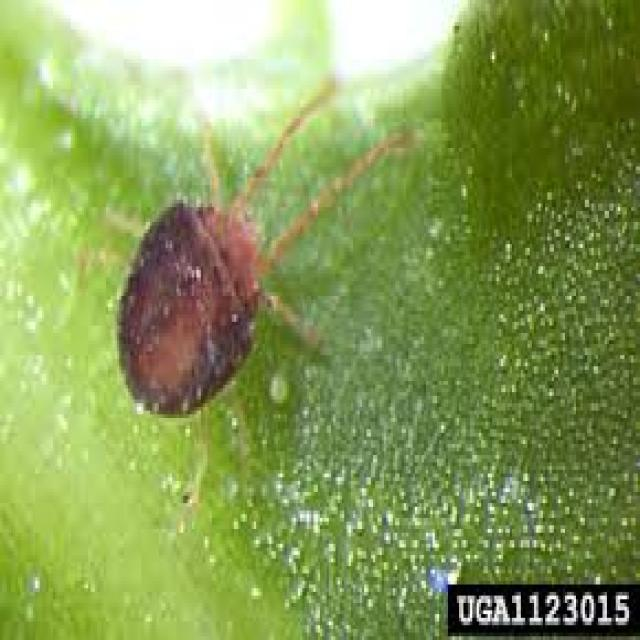Mites: (93, 54, 424, 460)
